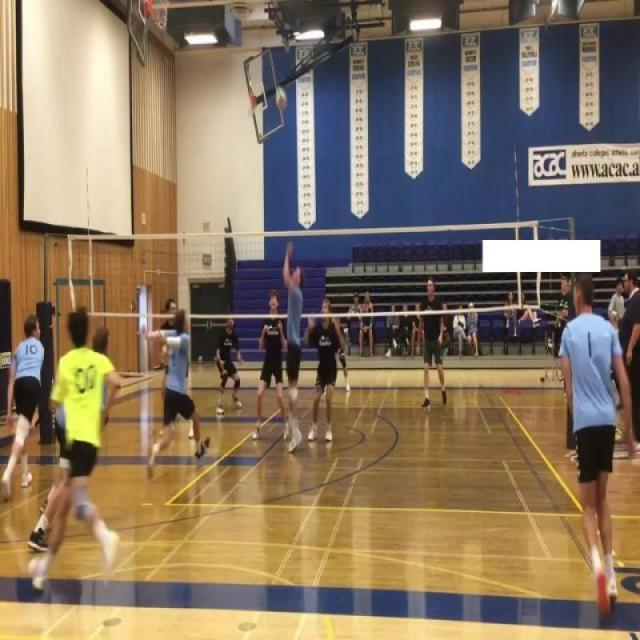volleyball: (274, 85, 288, 113)
